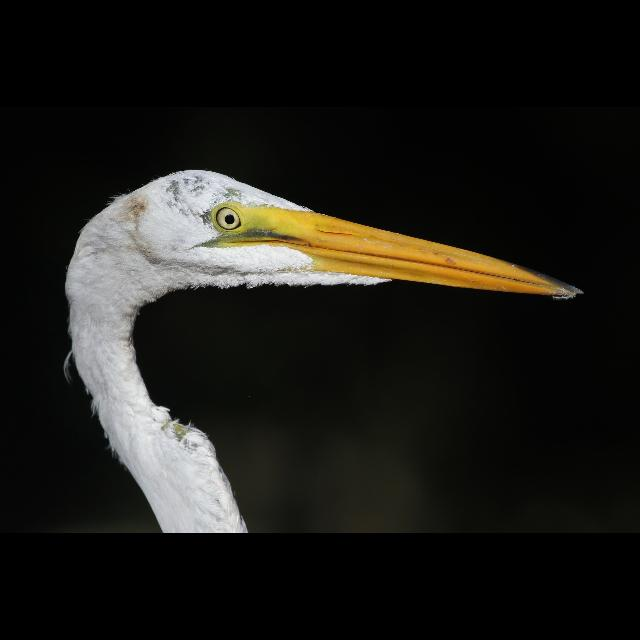egret: (61, 168, 584, 534)
